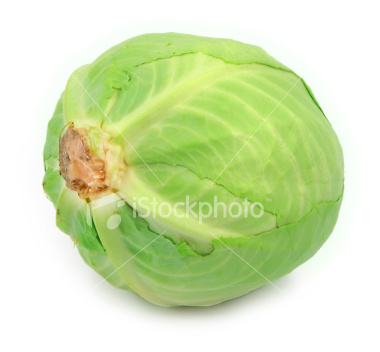cabbage: (41, 32, 347, 309)
